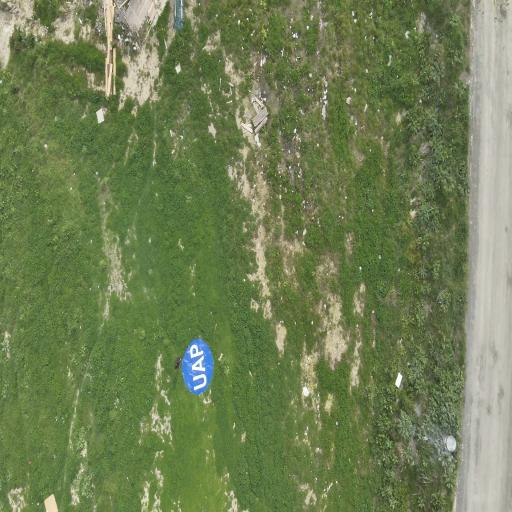UAP: (182, 339, 213, 394)
person: (175, 357, 181, 369)
